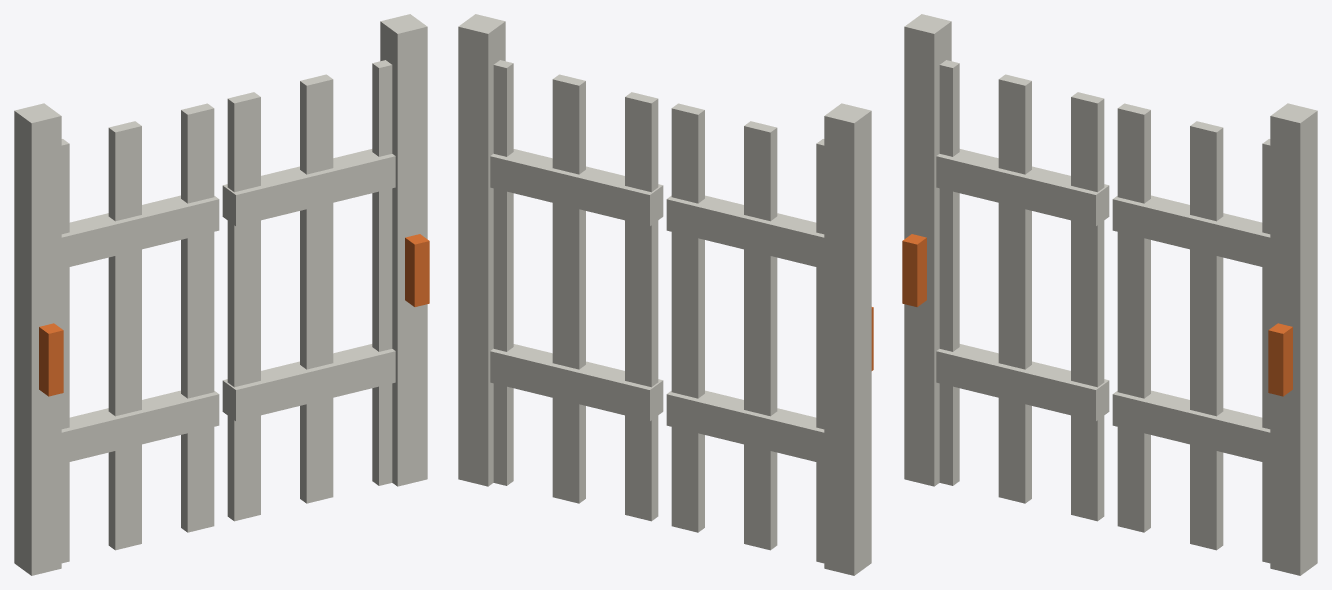
Rendered from picket-fence-gate-pedestrian.glb.
3 views of the same model, side by side, from view 1: azimuth 30°, elevation 25°; view 2: azimuth 150°, elevation 25°; view 3: azimuth 330°, elevation 25° (orthographic).
Visible parts, largest first — view 1: Gate_Post_Shaft (×2), Gate_Picket_3 (×2), Gate_Picket_2 (×2), Gate_Rail_Upper (×2), Gate_Rail_Lower (×2), Gate_Picket_1 (×2), Gate_Orange_Hinge (×2); view 2: Gate_Post_Shaft (×2), Gate_Picket_3 (×2), Gate_Picket_2 (×2), Gate_Rail_Upper (×2), Gate_Rail_Lower (×2), Gate_Picket_1 (×2); view 3: Gate_Post_Shaft (×2), Gate_Picket_3 (×2), Gate_Picket_2 (×2), Gate_Rail_Upper (×2), Gate_Rail_Lower (×2), Gate_Picket_1 (×2), Gate_Orange_Hinge (×2).
Part boxes in pixels (x1=…): Gate_Post_Shaft (×2): x1=14, y1=14, x2=427, y2=575; Gate_Picket_3 (×2): x1=181, y1=92, x2=260, y2=532; Gate_Picket_2 (×2): x1=108, y1=74, x2=333, y2=550; Gate_Rail_Upper (×2): x1=61, y1=149, x2=395, y2=268; Gate_Rail_Lower (×2): x1=61, y1=344, x2=395, y2=463; Gate_Picket_1 (×2): x1=61, y1=60, x2=392, y2=563; Gate_Orange_Hinge (×2): x1=39, y1=234, x2=429, y2=396; Gate_Post_Shaft (×2): x1=458, y1=14, x2=871, y2=575; Gate_Picket_3 (×2): x1=625, y1=92, x2=704, y2=532; Gate_Picket_2 (×2): x1=552, y1=74, x2=777, y2=550; Gate_Rail_Upper (×2): x1=490, y1=149, x2=824, y2=268; Gate_Rail_Lower (×2): x1=490, y1=344, x2=824, y2=463; Gate_Picket_1 (×2): x1=493, y1=60, x2=824, y2=563; Gate_Post_Shaft (×2): x1=904, y1=14, x2=1317, y2=575; Gate_Picket_3 (×2): x1=1071, y1=92, x2=1150, y2=532; Gate_Picket_2 (×2): x1=998, y1=74, x2=1223, y2=550; Gate_Rail_Upper (×2): x1=936, y1=149, x2=1270, y2=268; Gate_Rail_Lower (×2): x1=936, y1=344, x2=1270, y2=463; Gate_Picket_1 (×2): x1=939, y1=60, x2=1270, y2=563; Gate_Orange_Hinge (×2): x1=902, y1=234, x2=1292, y2=396.
Bounding box in the file's own units: 1.19 × 1.3 × 0.14.
